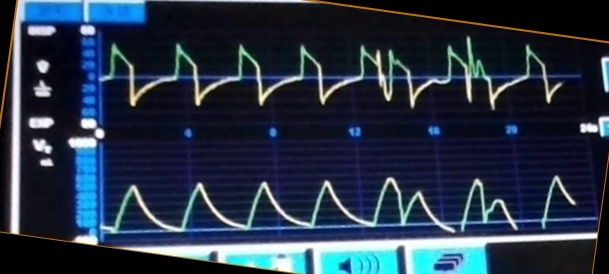Double_Triggering Flow: (118, 35, 560, 114)
Double_Triggering Volume: (132, 162, 576, 233)
